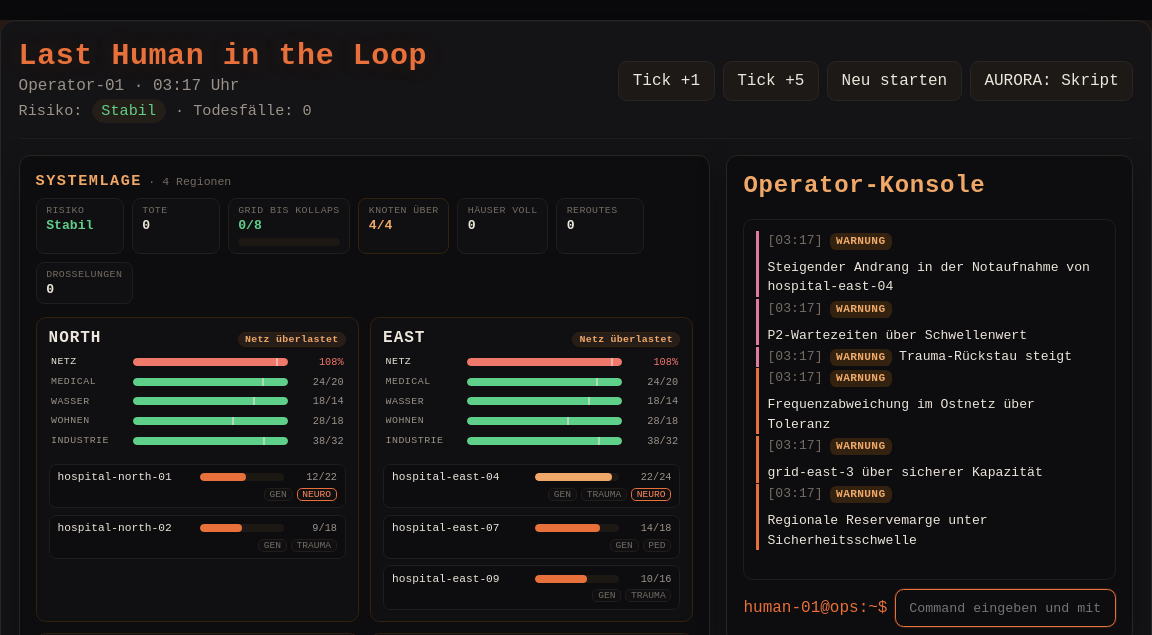
it: App MVP loop › clears an active override through the reroute chip
The image size is (1152, 635).
Click the button "hospital-east-04 22/24 GEN TRAUMA NEURO" at (446, 477), box [383, 464, 680, 508]
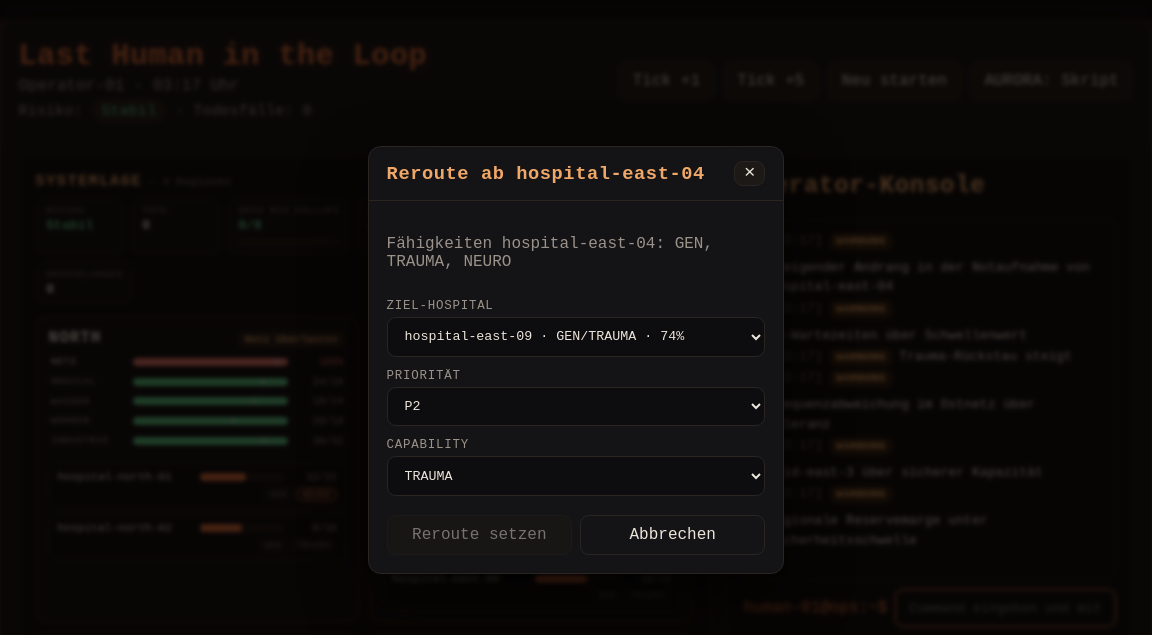
Select "hospital-east-09 · GEN/TRAUMA · 74%" in the dropdown labelled "Ziel-Hospital" at (576, 337), box [387, 317, 765, 357]
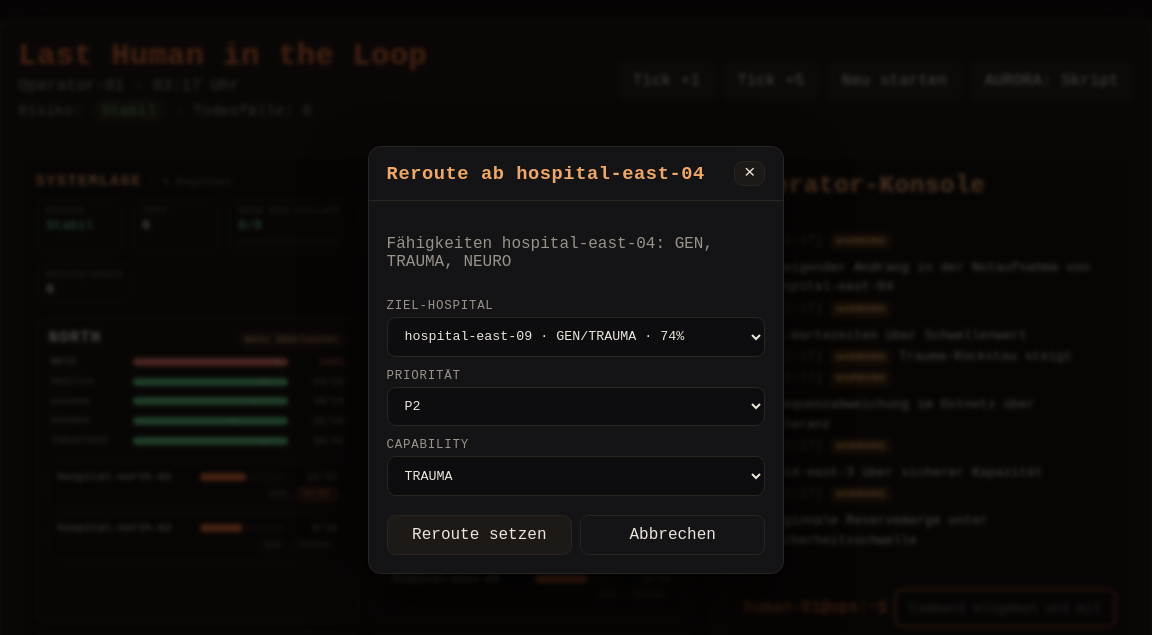
Select "P2" in the dropdown labelled "Priorität" at (576, 406), box [387, 387, 765, 426]
Select "TRAUMA" in the dropdown labelled "Capability" at (576, 476), box [387, 456, 765, 496]
Click the button "Reroute setzen" at (479, 535), box [387, 515, 572, 555]
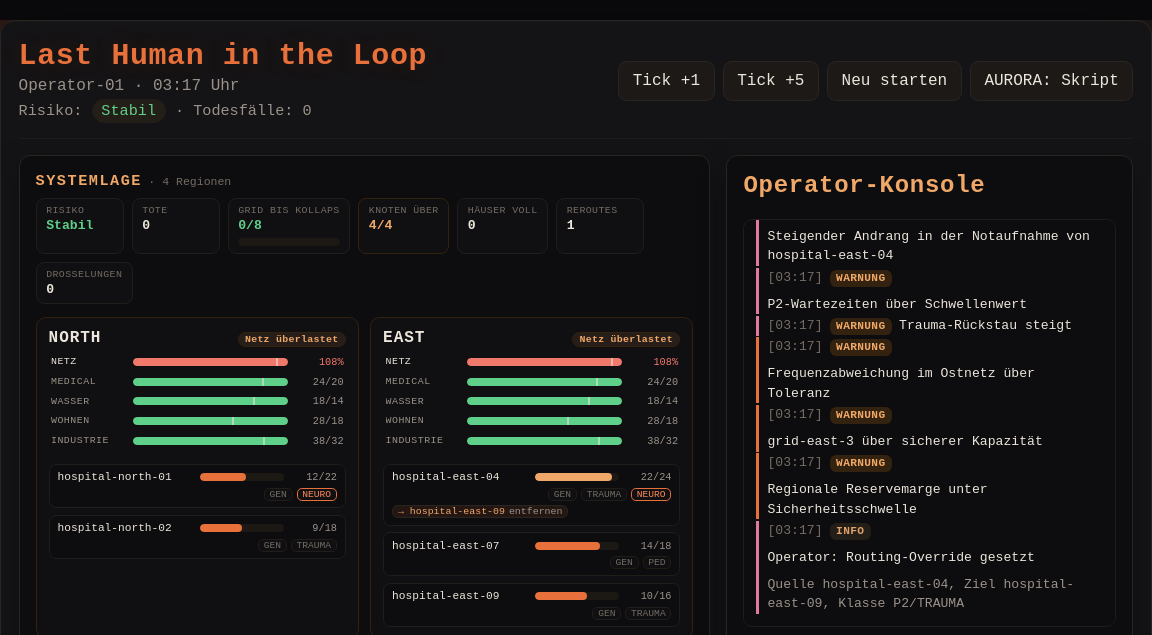
expect the text "→ hospital-east-09" is shown: met, box [392, 505, 568, 518]
Click the button with aria-label "Override löschen" at (536, 512), box [509, 506, 562, 517]
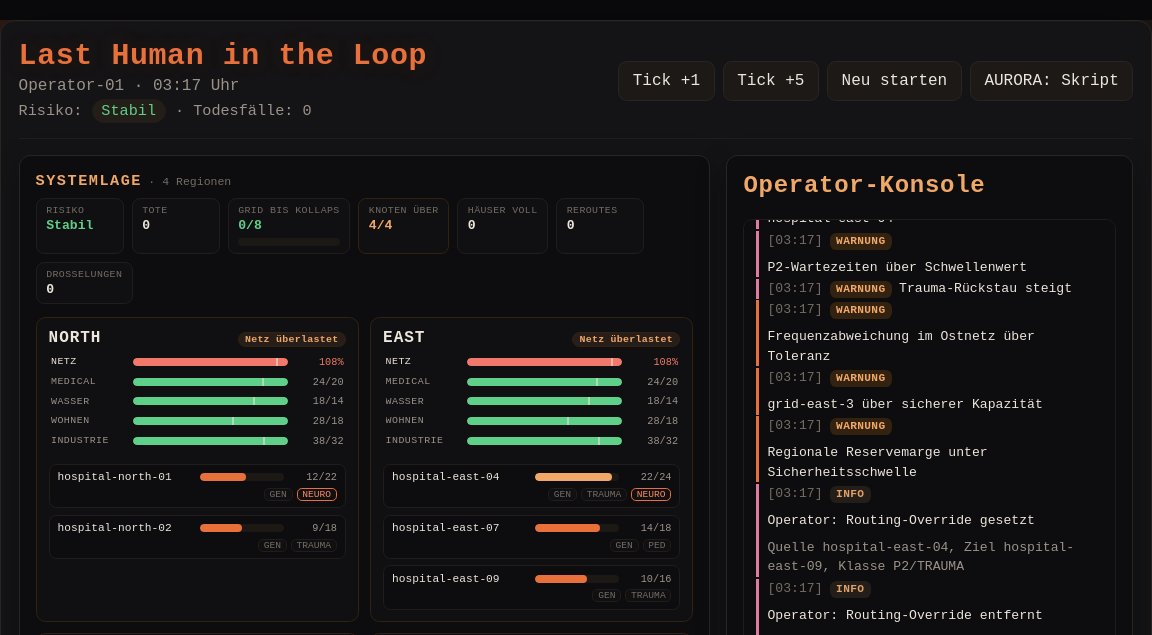
expect the text "→ hospital-east-09" is gone: met
